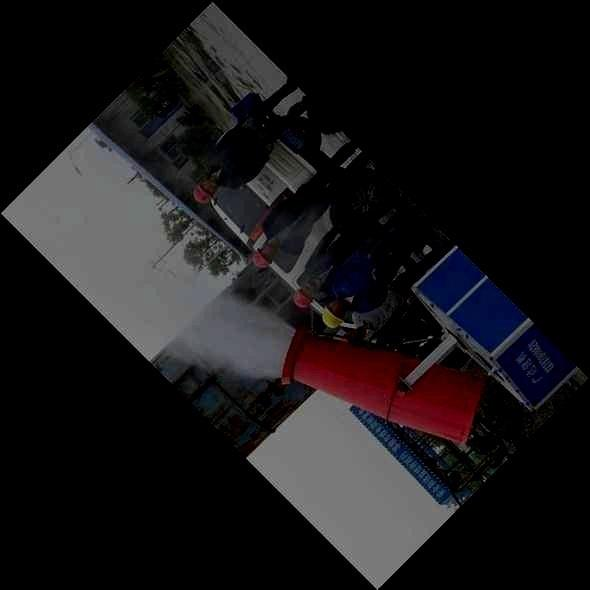helmet: (322, 299, 345, 328), (193, 180, 217, 204), (252, 245, 275, 268), (293, 283, 313, 308)
